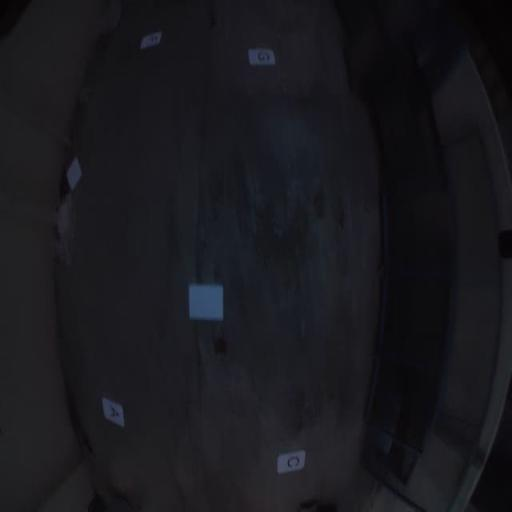A: (102, 398, 124, 427)
C: (278, 450, 306, 475)
F: (141, 33, 162, 49)
G: (248, 49, 275, 65)
